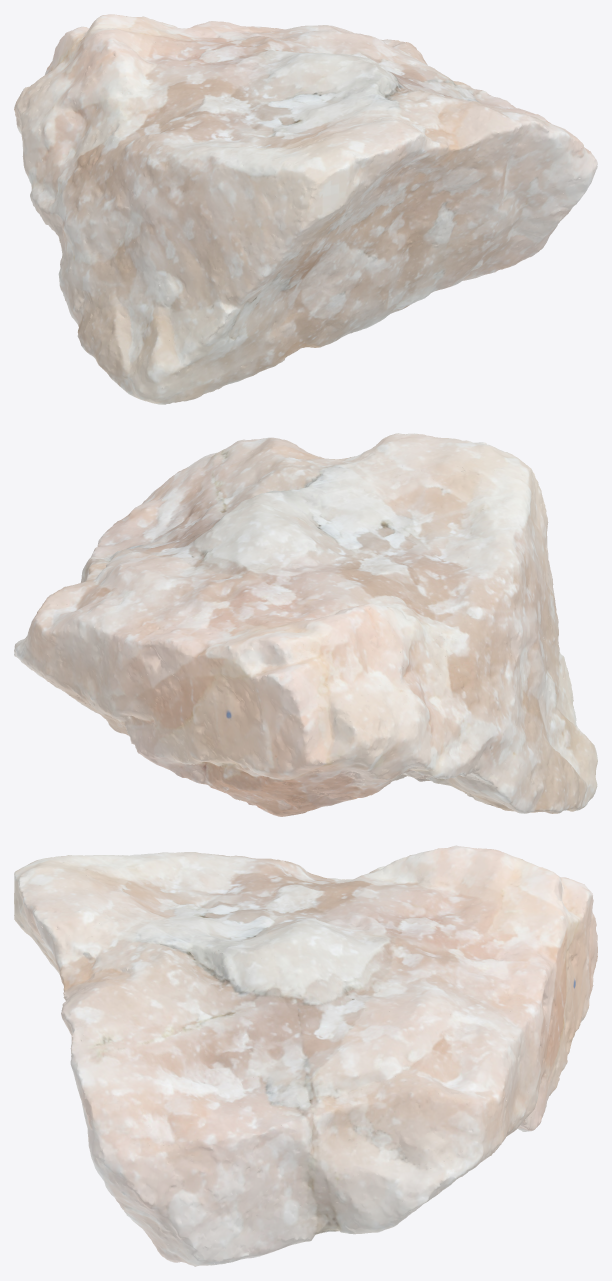
Rendered from kremen.glb.
3 renders of one model, top to bottom at view 1: azimuth 30°, elevation 25°; view 2: azimuth 150°, elevation 25°; view 3: azimuth 270°, elevation 25°, orthographic. The views are drawn at different scales.
Visible parts, largest first — view 1: Object_2, Object_3; view 2: Object_2, Object_3; view 3: Object_2, Object_3.
Part boxes in pixels (x1=…): Object_2: x1=14, y1=14, x2=597, y2=404; Object_3: x1=17, y1=21, x2=597, y2=404; Object_2: x1=14, y1=433, x2=597, y2=816; Object_3: x1=14, y1=437, x2=597, y2=816; Object_2: x1=15, y1=845, x2=597, y2=1264; Object_3: x1=14, y1=848, x2=597, y2=1266.
Bounding box in the file's own units: 0.3776 × 0.2037 × 0.3462.
1 material, 1 textured.
